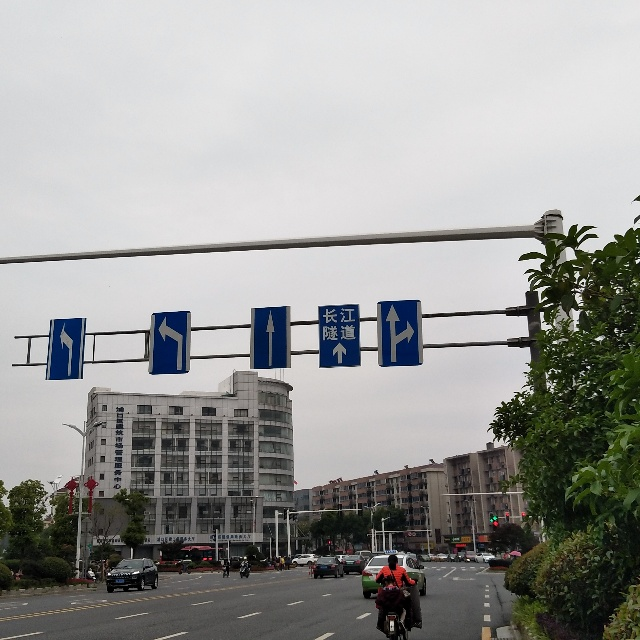left: (148, 311, 188, 369), (51, 321, 79, 378)
straight: (252, 306, 291, 365)
